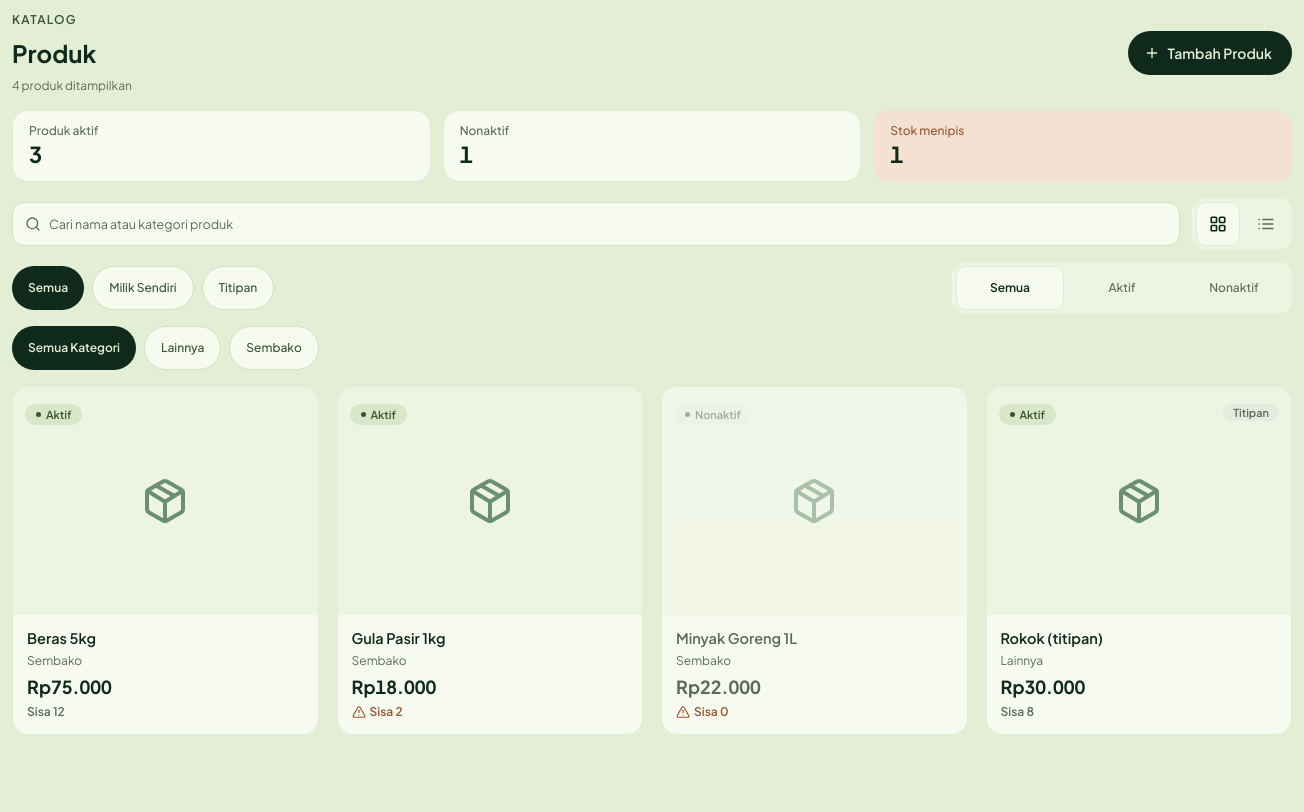
Test: Katalog › pencarian tanpa hasil: pesan + hapus pencarian
The width and height of the screenshot is (1304, 812).
Type "tidak-ada" into the search field.
click(608, 224); type("tidak-ada")  # box [49,202,1167,244]
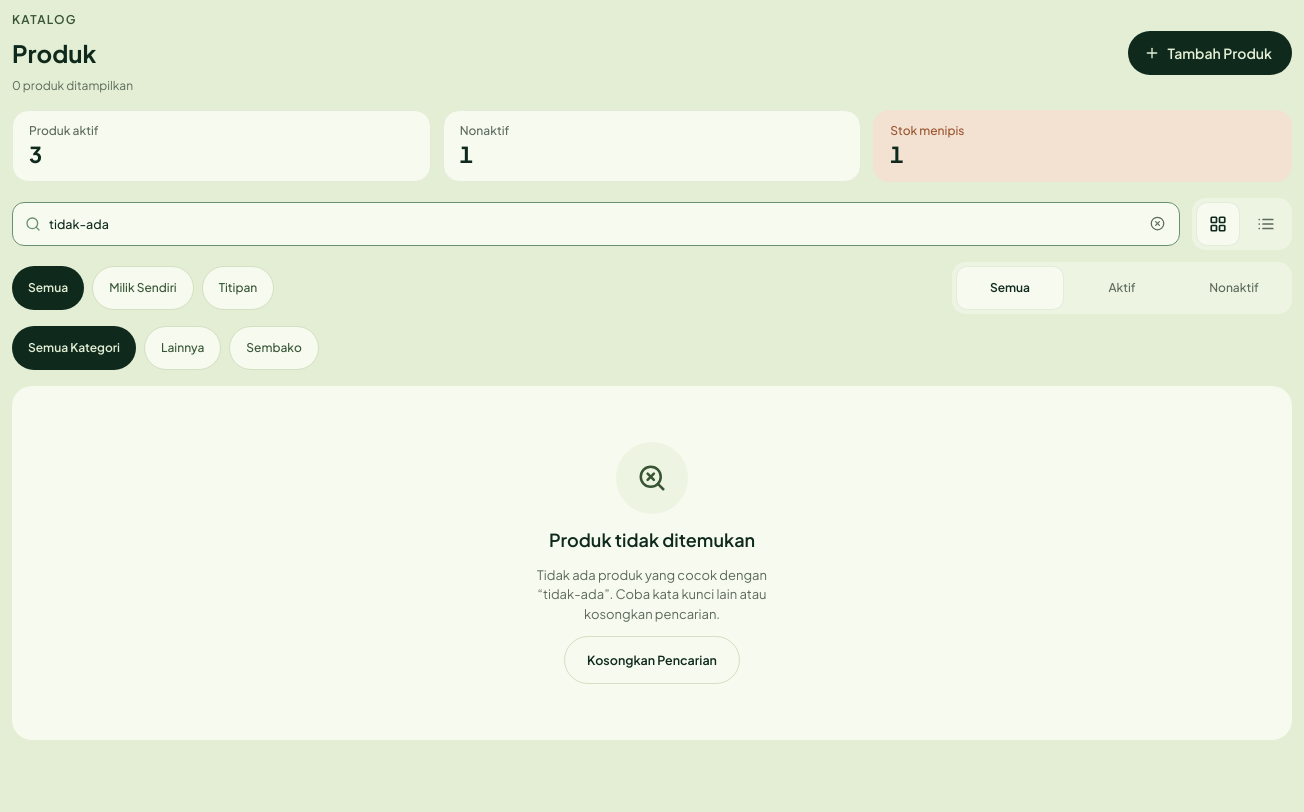
Result: the text "Produk tidak ditemukan" is shown at [549,526,755,554]
Click the button "Kosongkan Pencarian".
click(652, 660)  # box [564,636,740,684]
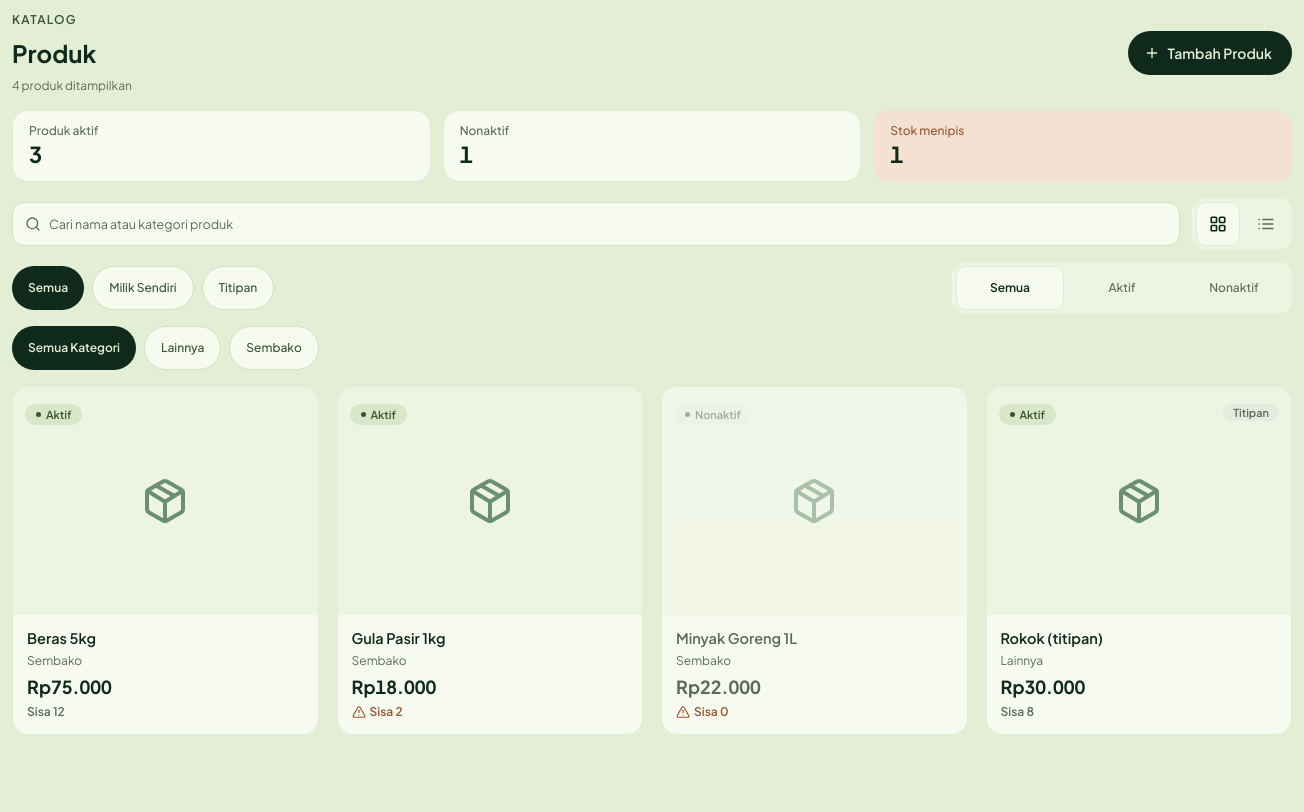
Result: the text "Beras 5kg" is shown at [27,629,96,647]
